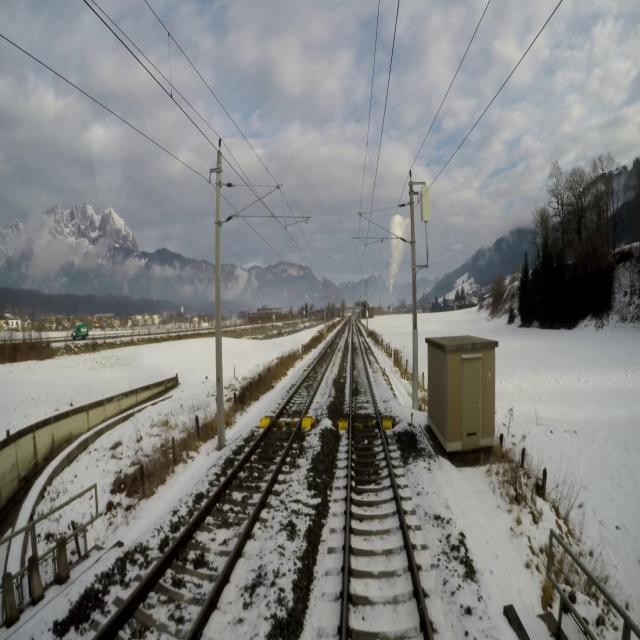rail-track: (100, 326, 344, 639), (347, 324, 429, 639)
